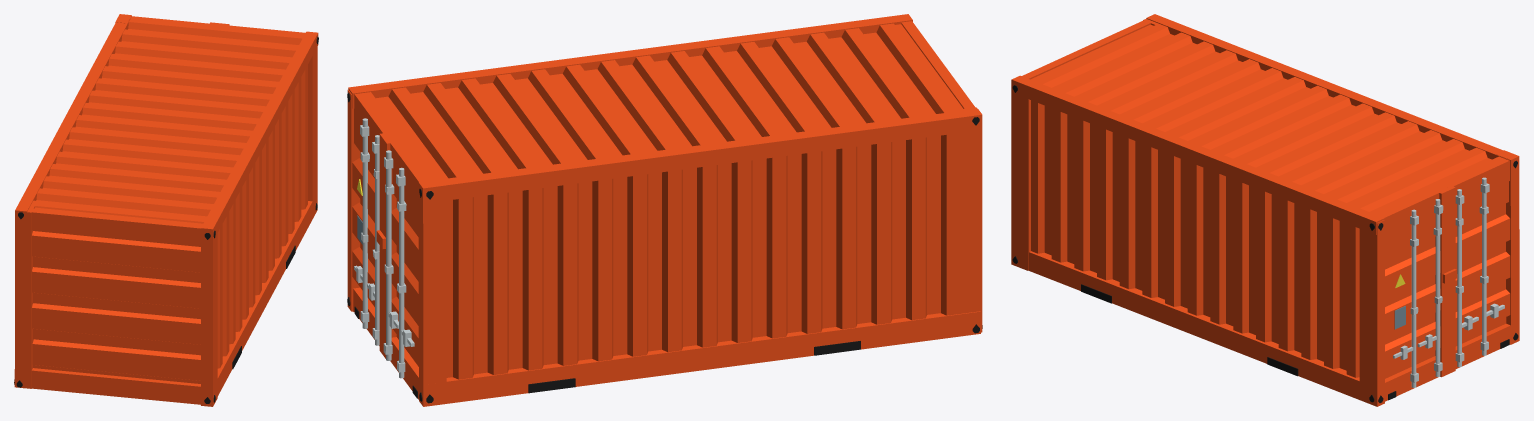
The model's file is node.001_lev2.glb.
The picture shows the model from 3 angles, left to right: view 1: azimuth 30°, elevation 25°; view 2: azimuth 150°, elevation 25°; view 3: azimuth 270°, elevation 25°; orthographic projection. The views are drawn at different scales.
Visible parts, largest first — view 1: node.001_lev2; view 2: node.001_lev2; view 3: node.001_lev2.
Part boxes in pixels (<box>): node.001_lev2: <box>14,14,318,406</box>; node.001_lev2: <box>347,14,982,406</box>; node.001_lev2: <box>1011,14,1519,406</box>.
Size of the model in its own units: 6.33 by 2.62 by 6.53.
